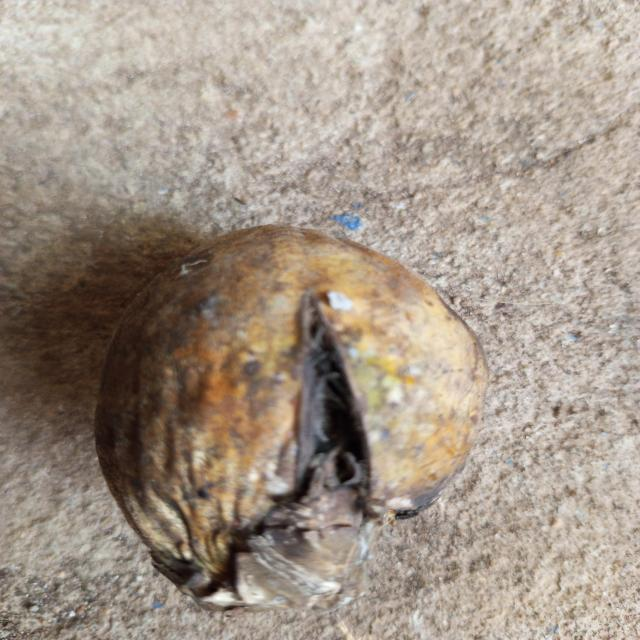damaged: (95, 225, 488, 610)
